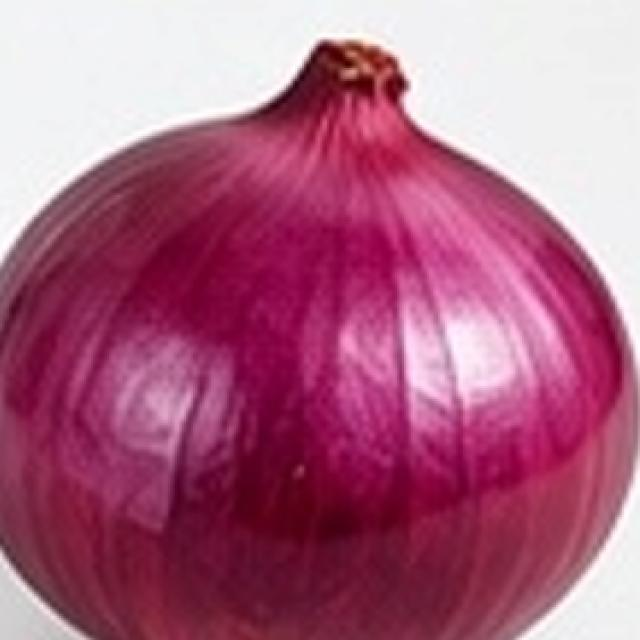healthy: (0, 7, 640, 640), (0, 42, 635, 638)
